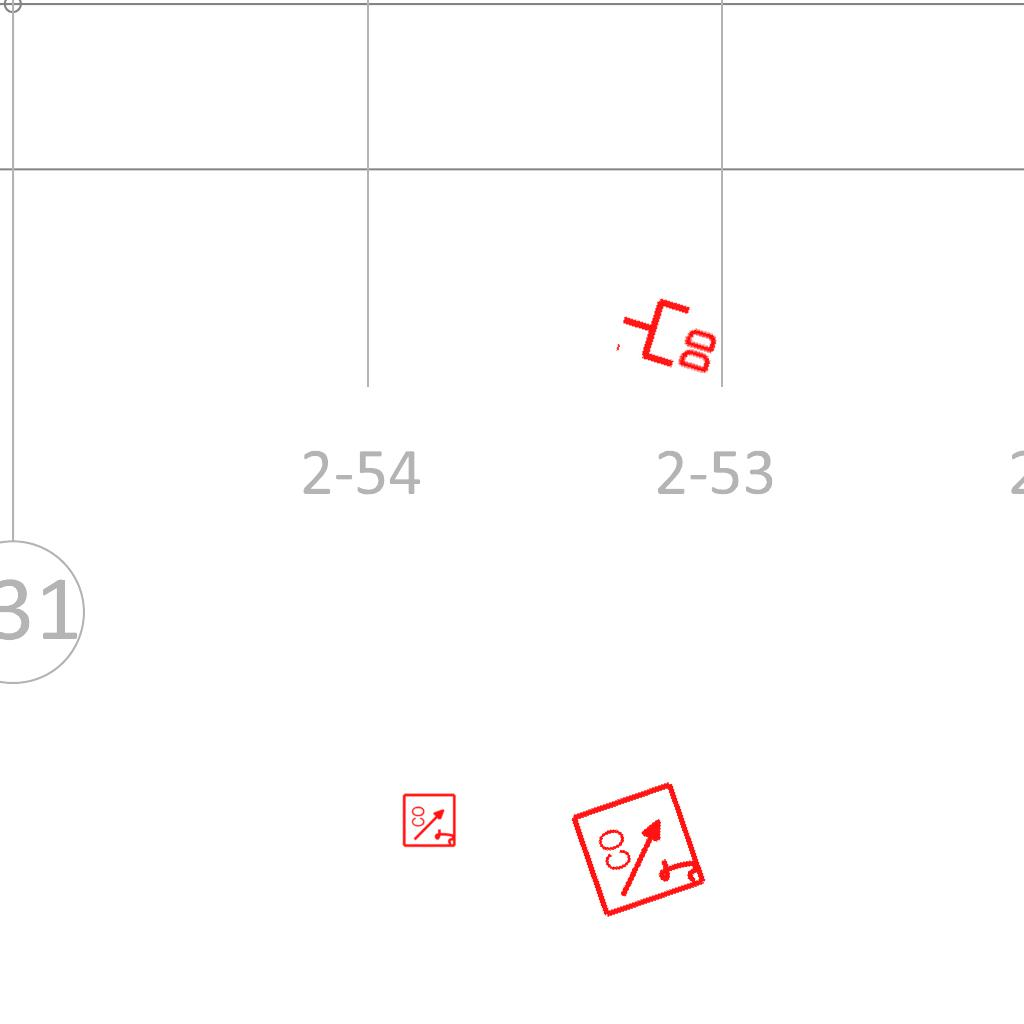Datenanschluss_zweifach: (611, 284, 730, 381)
ROA_Rauchmelder_optisch_mit_Signalgeber_(Sockelsirene): (567, 776, 712, 921), (402, 792, 458, 848)
